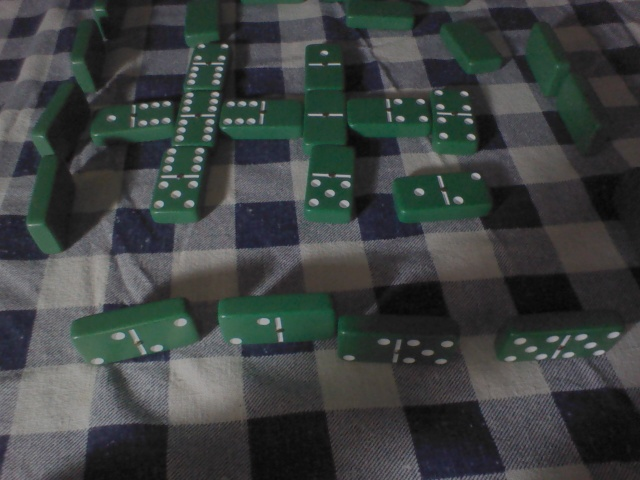A: (435, 15, 510, 80), (339, 2, 425, 38), (181, 1, 226, 47)
B: (386, 167, 498, 220), (302, 139, 357, 218), (342, 89, 430, 136), (153, 140, 202, 221), (218, 98, 303, 142), (426, 86, 480, 153), (88, 102, 177, 139), (169, 88, 220, 151), (293, 88, 347, 143), (179, 44, 231, 94), (301, 43, 345, 95)
C: (24, 152, 81, 262), (26, 81, 91, 161), (65, 19, 114, 100), (86, 1, 130, 39)
D: (546, 73, 616, 161), (517, 19, 573, 102)
E: (61, 299, 203, 368), (480, 308, 627, 364), (334, 310, 460, 374), (212, 296, 341, 349)
